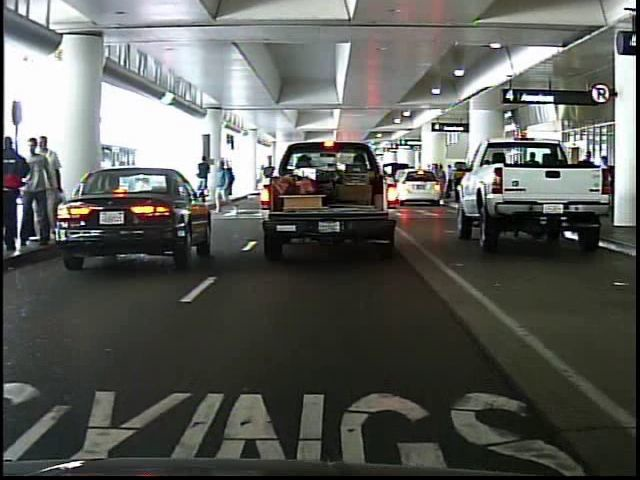person: (0, 135, 38, 254), (43, 134, 69, 245), (23, 135, 47, 250), (215, 152, 243, 217)
